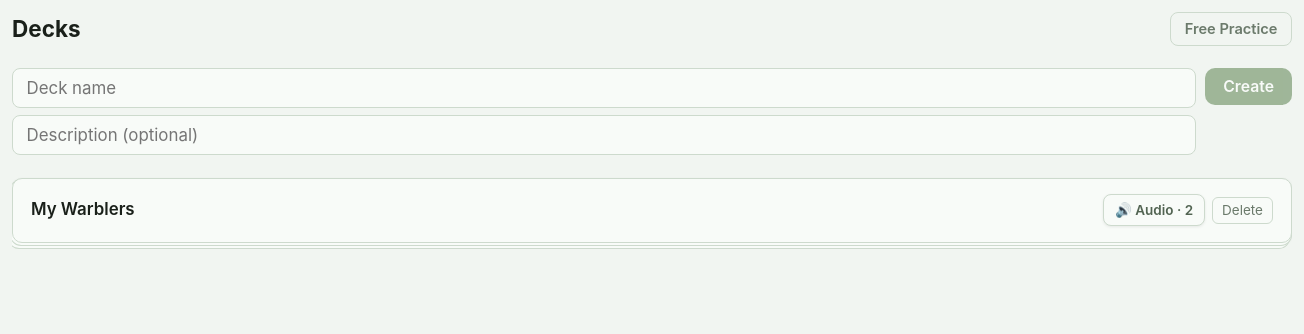
Test: Decks page › shows practice banner when Free Practice toggled on
The width and height of the screenshot is (1304, 334).
Click the button "Free Practice". click: click(1231, 29)
box: [1170,12,1292,46]
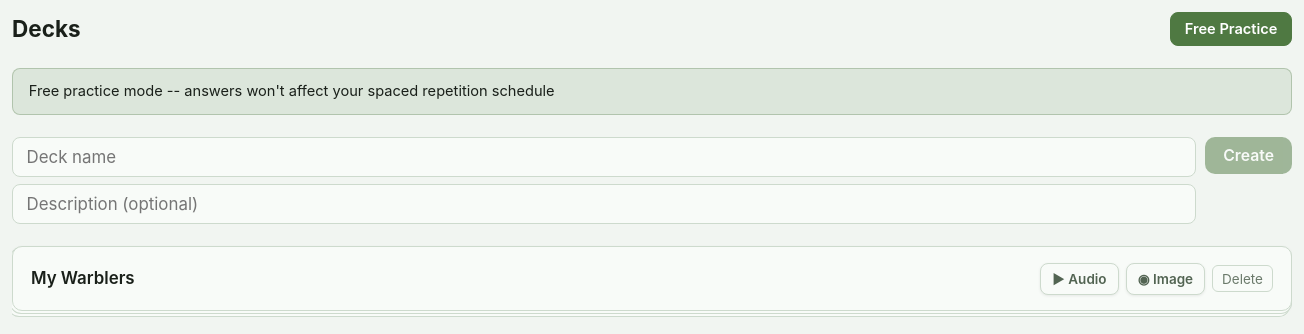
Result: the text "answers won't affect" is shown at [29,82,555,100]
